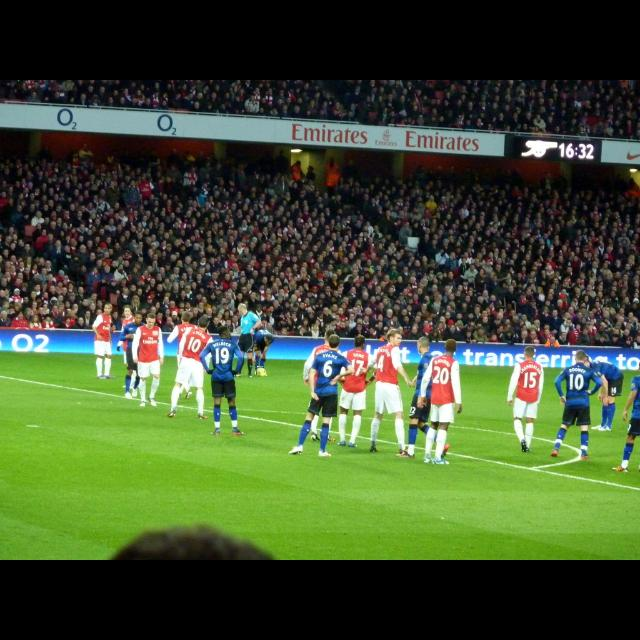Football: (256, 367, 264, 375)
